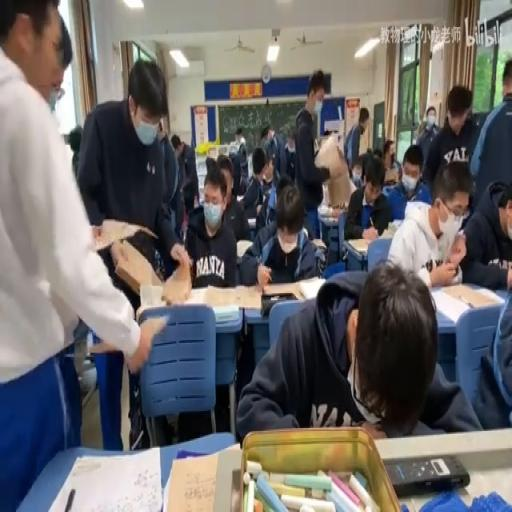calculator: (43, 445, 162, 509), (162, 449, 228, 512), (205, 279, 313, 313), (430, 282, 504, 322), (112, 236, 161, 293), (136, 282, 165, 310), (348, 236, 382, 255), (298, 276, 326, 299), (212, 302, 240, 324), (318, 205, 346, 220), (236, 238, 254, 256), (378, 222, 396, 237), (310, 238, 328, 250), (235, 192, 245, 202), (247, 215, 256, 226)
paper: (2, 2, 88, 510), (234, 263, 476, 440), (78, 54, 182, 455), (238, 178, 316, 287), (425, 84, 481, 199), (294, 68, 332, 235), (460, 176, 512, 290), (341, 151, 390, 240), (207, 155, 248, 246), (382, 144, 430, 219), (170, 132, 200, 218), (261, 122, 289, 186), (53, 14, 73, 94), (264, 179, 278, 225), (275, 174, 294, 199), (251, 148, 266, 178), (68, 125, 82, 154), (232, 125, 246, 149), (382, 138, 394, 165), (501, 68, 511, 100), (390, 159, 402, 181), (238, 150, 248, 176), (416, 119, 426, 141), (170, 134, 182, 152), (156, 118, 165, 142), (358, 106, 369, 124), (206, 145, 217, 161), (424, 106, 435, 122), (286, 136, 296, 150), (229, 148, 237, 161), (373, 148, 382, 158), (366, 145, 374, 154), (324, 128, 330, 135)
person: (386, 454, 470, 496)
